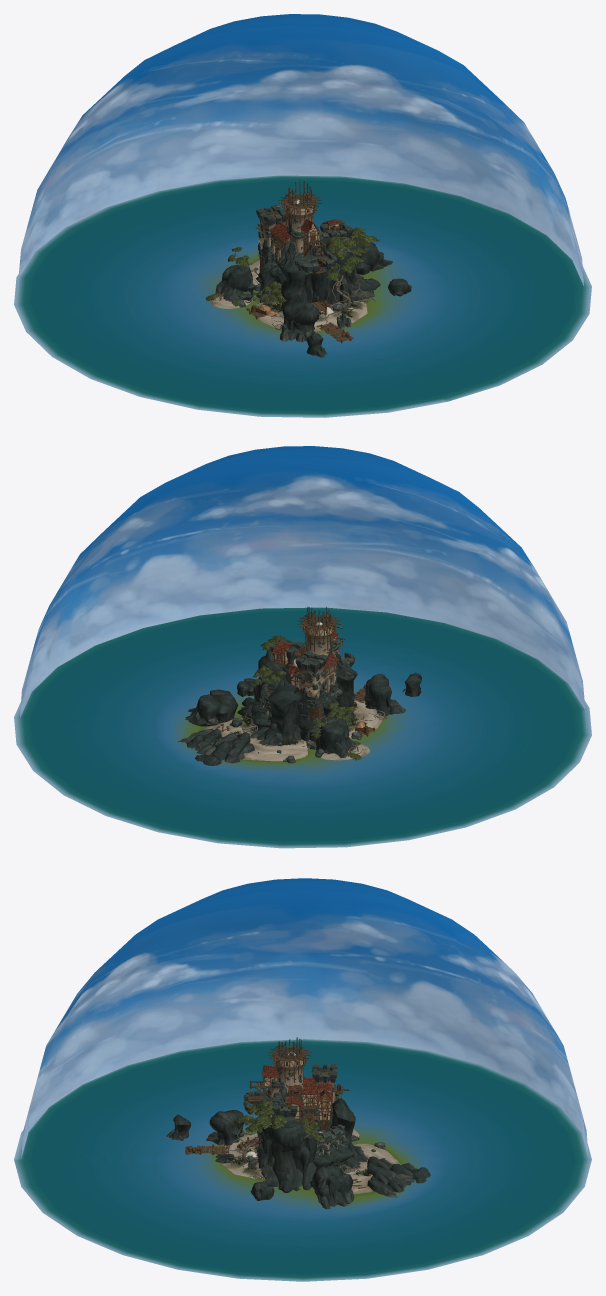
Rendered from 海岛建筑.glb.
3 views of the same model, one above another, from view 1: azimuth 30°, elevation 25°; view 2: azimuth 150°, elevation 25°; view 3: azimuth 270°, elevation 25° (orthographic).
Parts seen in each view (by area): view 1: Sea, Sky, Fortress_Environment_0, Fortress_Fortress_0.001, Fortress_Fortress_0, Fortress_Fortress_0.002; view 2: Sea, Sky, Fortress_Environment_0, Fortress_Fortress_0.001, Fortress_Fortress_0, Fortress_Fortress_0.002; view 3: Sea, Sky, Fortress_Environment_0, Fortress_Fortress_0.001, Fortress_Fortress_0, Fortress_Fortress_0.002.
Boxes of the visible parts, x1=… form: Sea: x1=14, y1=175, x2=591, y2=417; Sky: x1=17, y1=14, x2=583, y2=300; Fortress_Environment_0: x1=206, y1=227, x2=411, y2=357; Fortress_Fortress_0.001: x1=256, y1=179, x2=353, y2=275; Fortress_Fortress_0: x1=251, y1=182, x2=349, y2=316; Fortress_Fortress_0.002: x1=249, y1=193, x2=353, y2=343; Sea: x1=14, y1=607, x2=591, y2=848; Sky: x1=20, y1=446, x2=586, y2=731; Fortress_Environment_0: x1=177, y1=635, x2=421, y2=765; Fortress_Fortress_0.001: x1=270, y1=606, x2=355, y2=719; Fortress_Fortress_0: x1=273, y1=611, x2=368, y2=733; Fortress_Fortress_0.002: x1=212, y1=615, x2=374, y2=749; Sea: x1=14, y1=1039, x2=591, y2=1281; Sky: x1=21, y1=878, x2=588, y2=1158; Fortress_Environment_0: x1=166, y1=1086, x2=430, y2=1209; Fortress_Fortress_0.001: x1=243, y1=1037, x2=337, y2=1131; Fortress_Fortress_0: x1=248, y1=1040, x2=349, y2=1130; Fortress_Fortress_0.002: x1=185, y1=1046, x2=366, y2=1188.
Size of the model in its own units: 236 by 126 by 236.
Materials: 5 (5 with a texture image).
